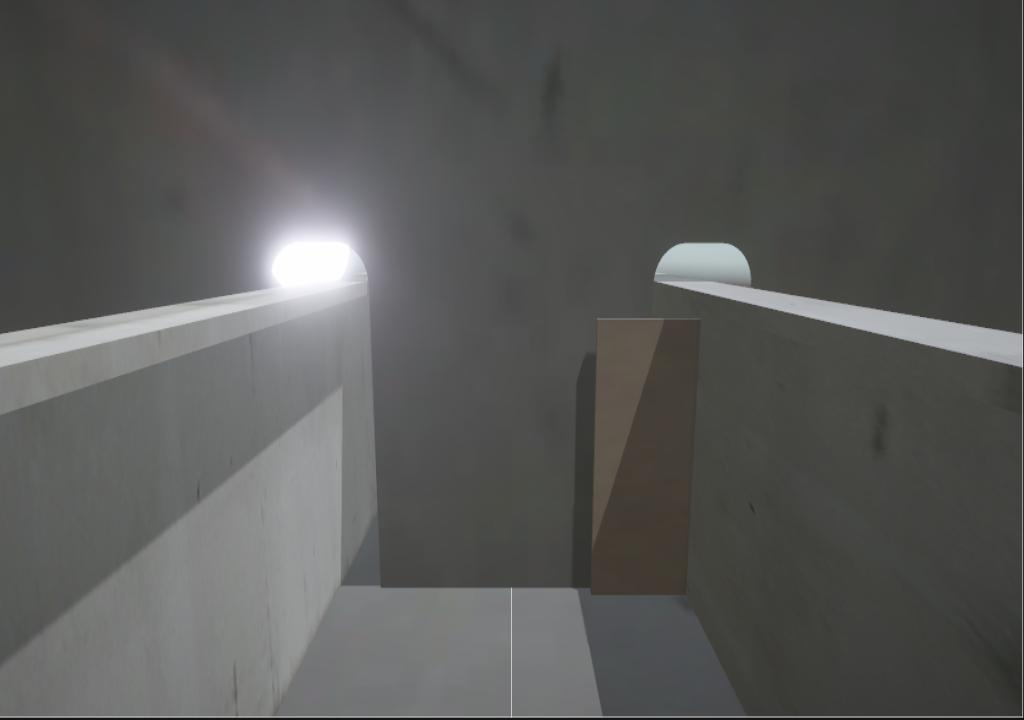fillet_yong_jeop_jang: (374, 578, 585, 604)
plate_CP01: (586, 317, 697, 596)
